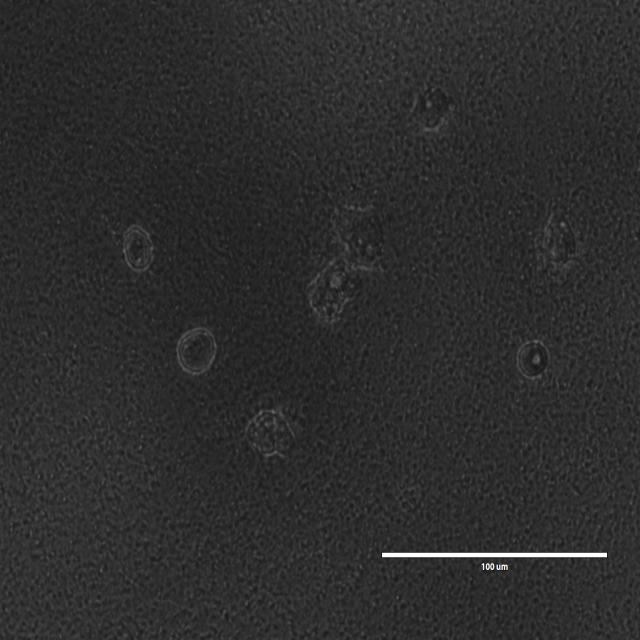Amoeba: (151, 166, 500, 474), (246, 411, 298, 461), (542, 207, 576, 274), (178, 323, 218, 377), (410, 82, 453, 131), (121, 223, 158, 274), (516, 338, 550, 382)
